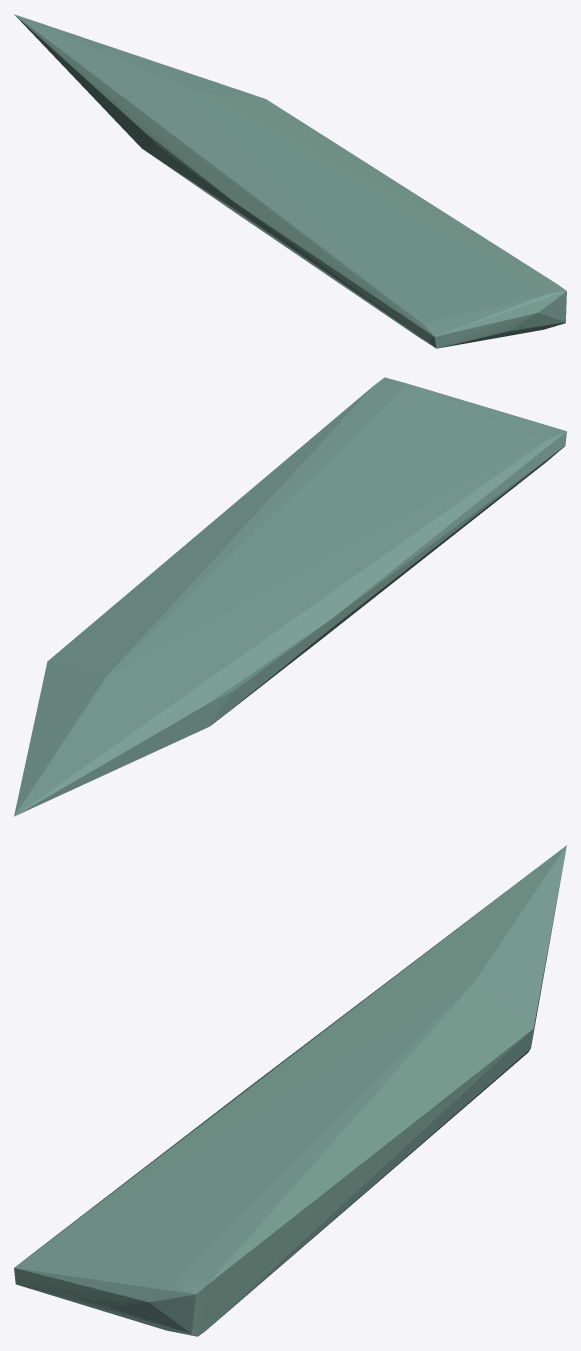
Rendered from electrical_power_terminal_a01.glb.
The picture shows the model from 3 angles, top to bottom: view 1: azimuth 30°, elevation 25°; view 2: azimuth 150°, elevation 25°; view 3: azimuth 330°, elevation 25°; orthographic projection. The views are drawn at different scales.
Visible parts, largest first — view 1: geometry_0; view 2: geometry_0; view 3: geometry_0.
Part boxes in pixels (x1,y1,x2,y2): geometry_0: [14, 14, 566, 348]; geometry_0: [14, 377, 566, 816]; geometry_0: [14, 845, 566, 1336].
Bounding box in the file's own units: 0.0959 × 0.0262 × 0.48.
